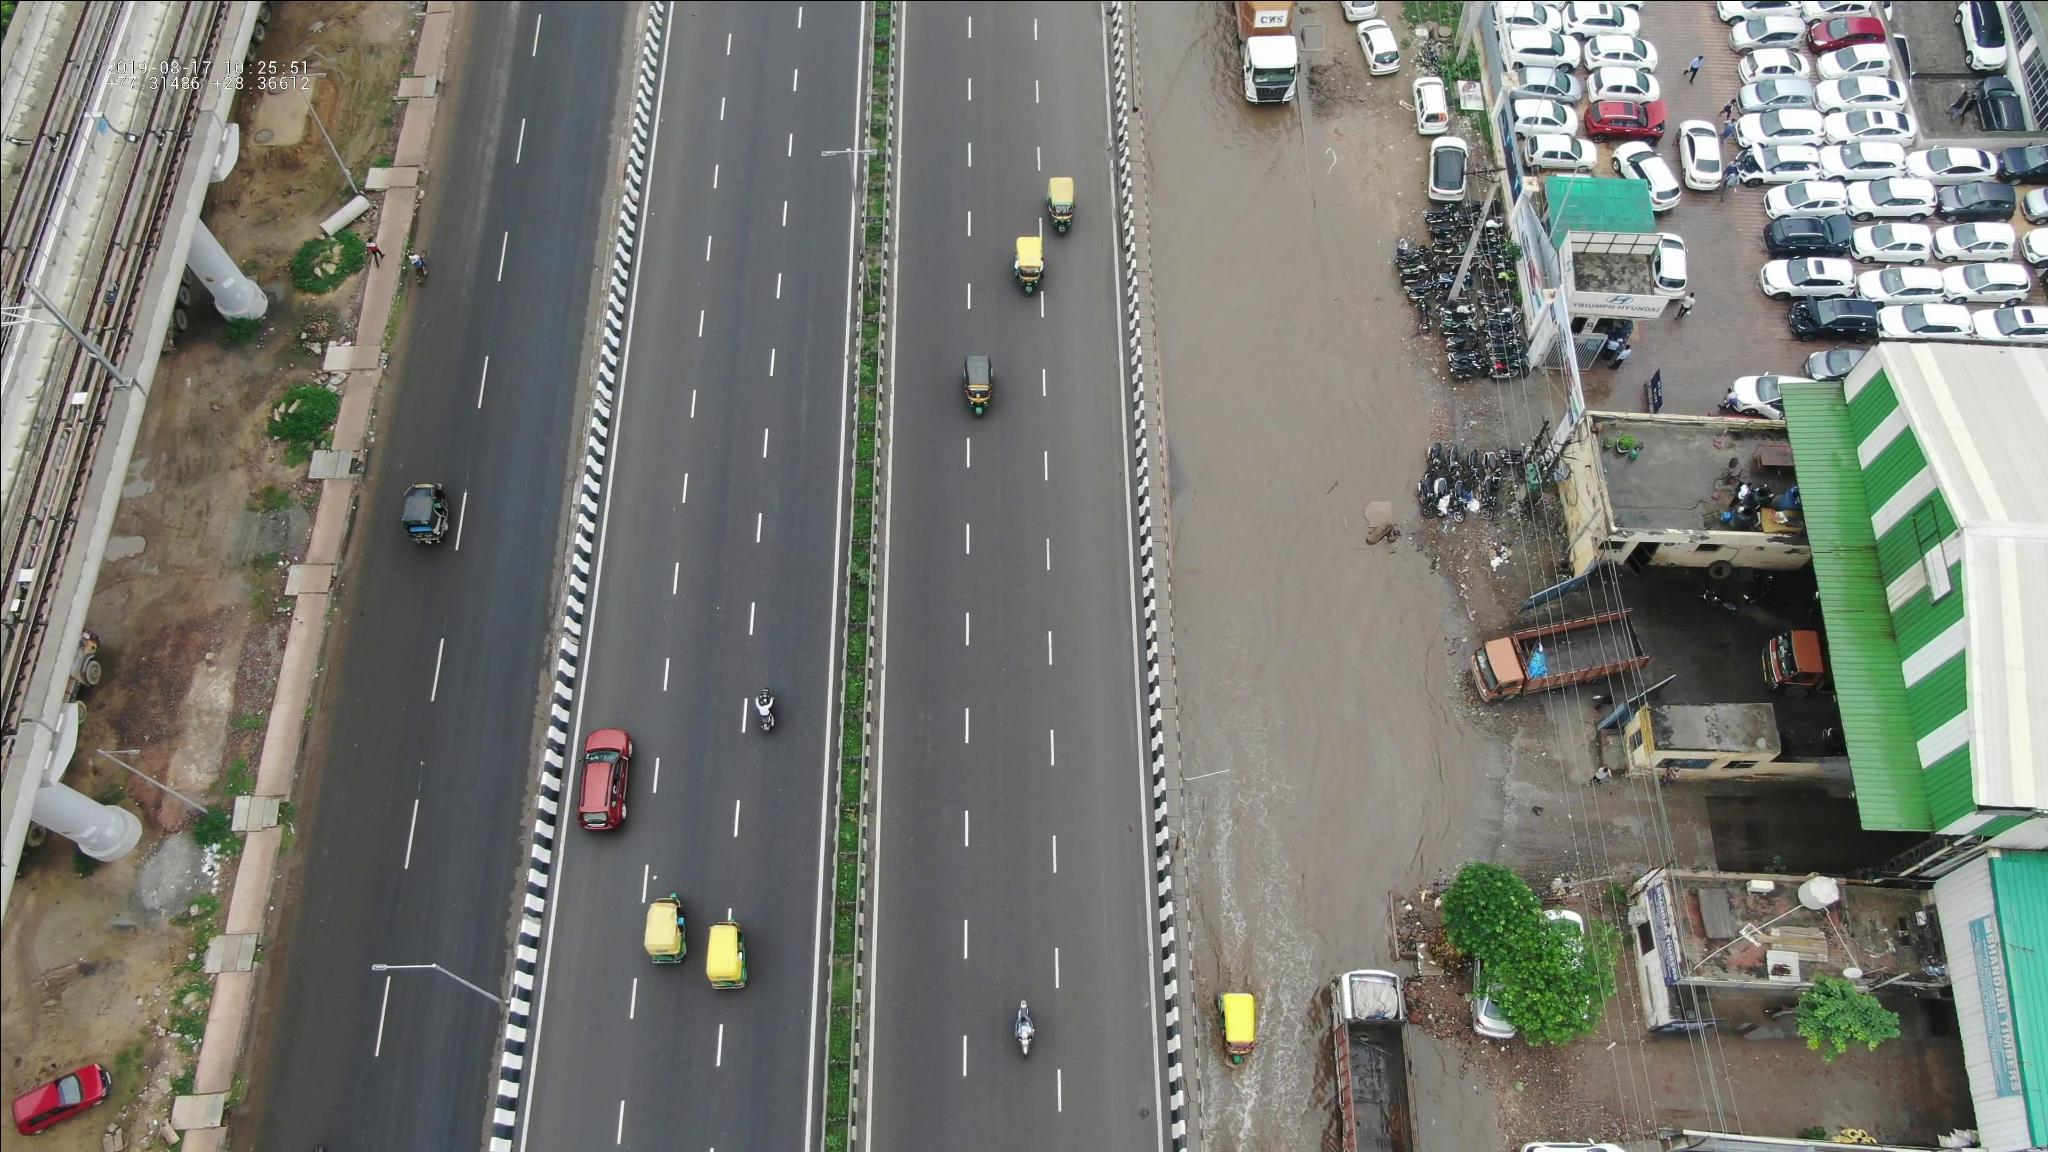Waterlogging: (1167, 333, 1419, 944), (1122, 8, 1307, 281)
